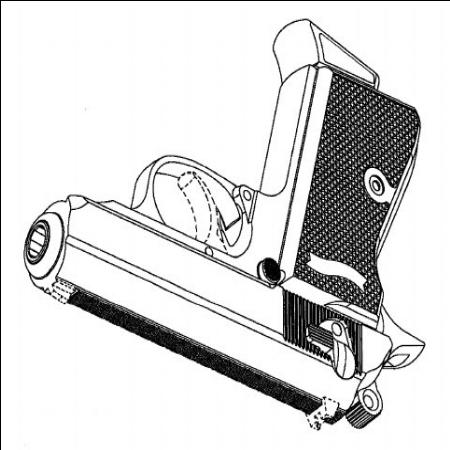Pistol: (24, 22, 430, 431)
